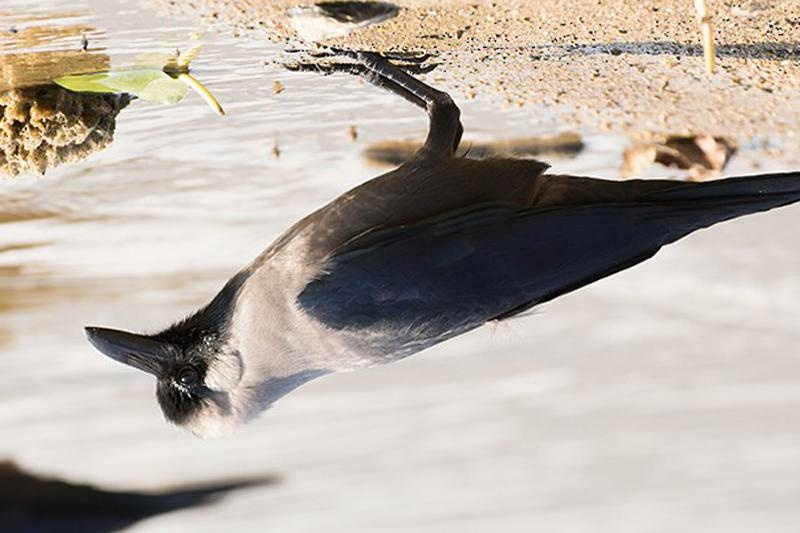crow: (78, 54, 800, 446)
